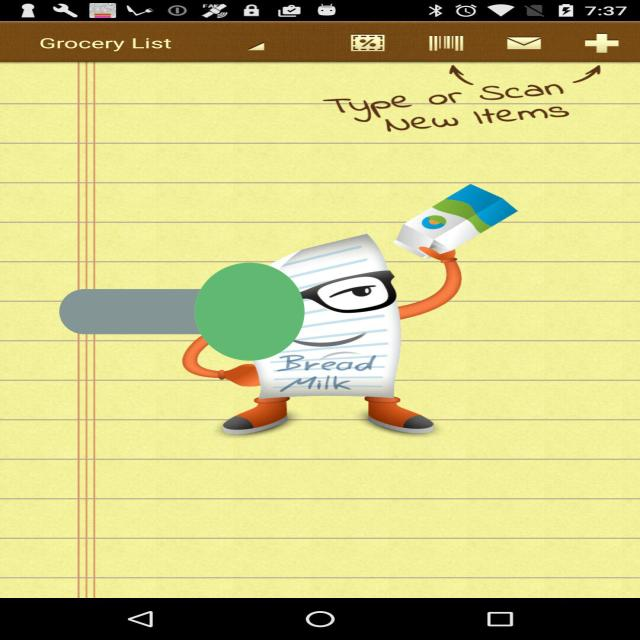social proof: (59, 202, 305, 421)
